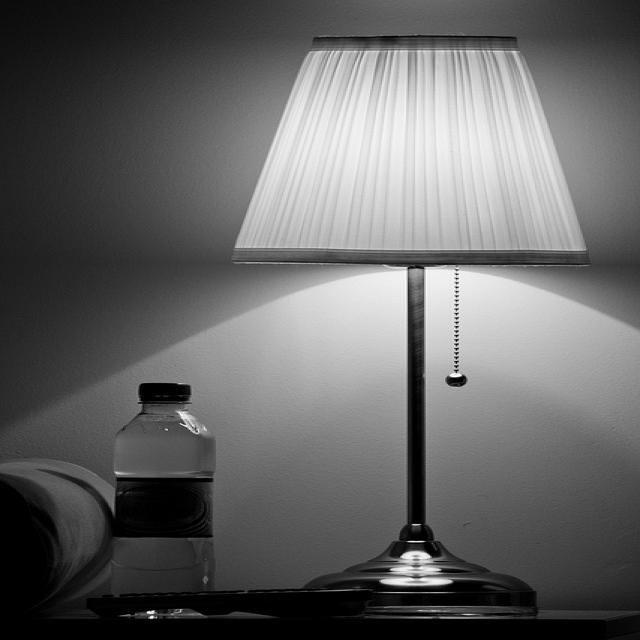Bottle: (109, 378, 221, 606)
